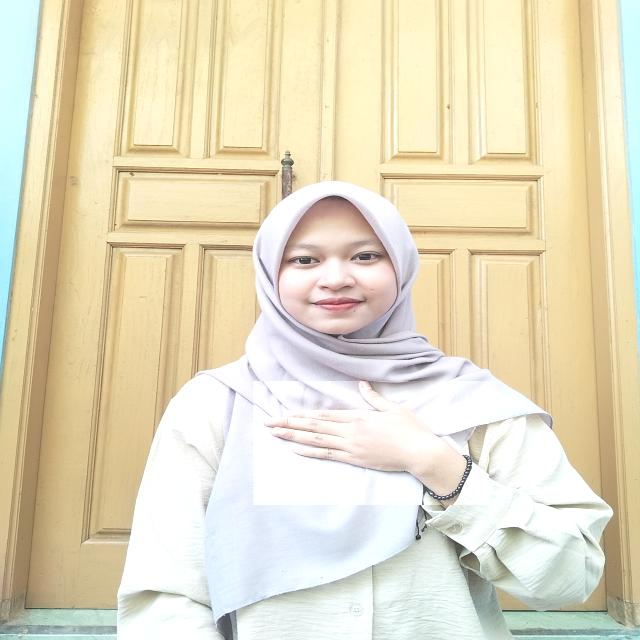tolong: (252, 381, 488, 505)
